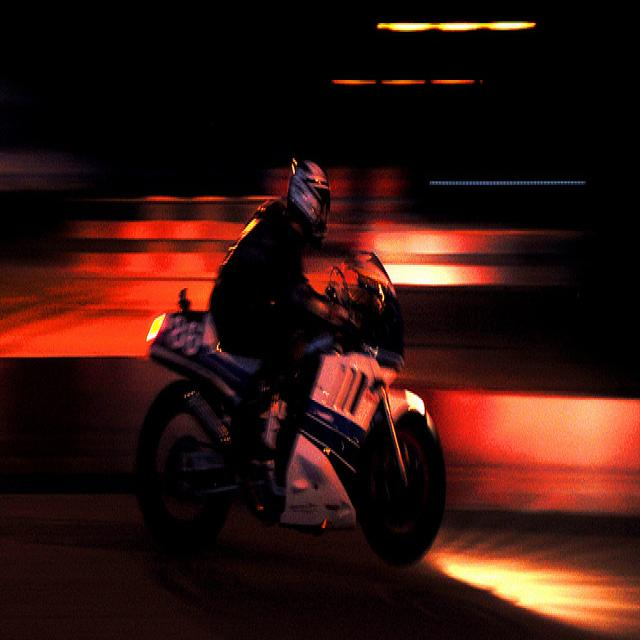Motorbike: (148, 245, 472, 588)
